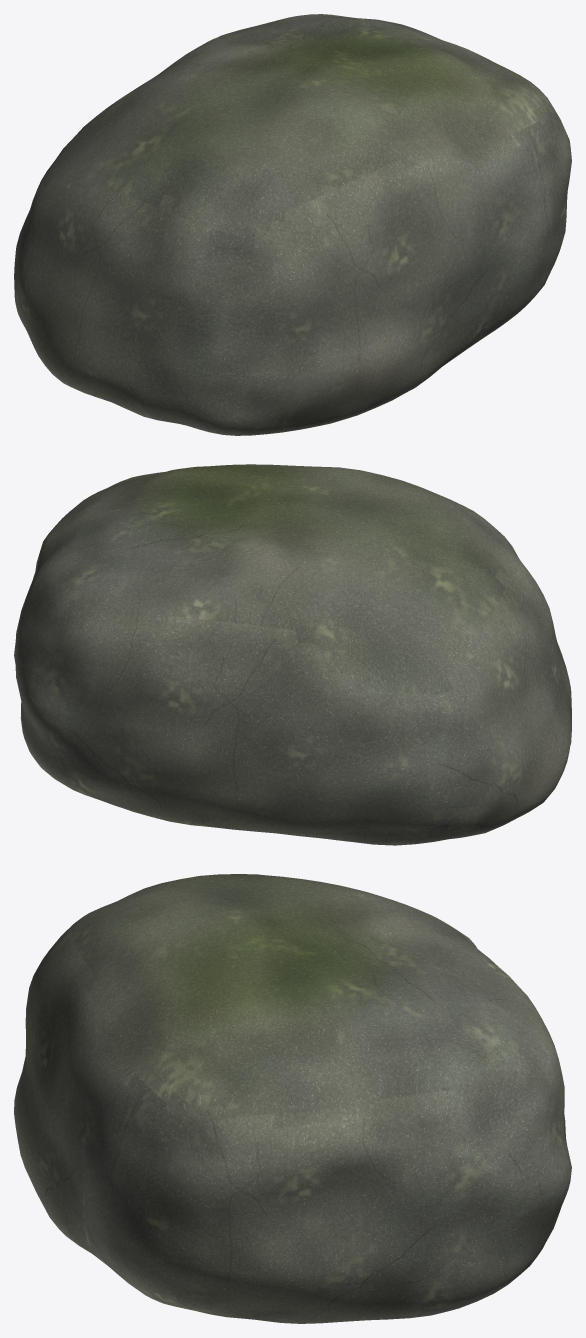
File: bed_rock_a.gltf
3 renders of one model, top to bottom at view 1: azimuth 30°, elevation 25°; view 2: azimuth 150°, elevation 25°; view 3: azimuth 270°, elevation 25°, orthographic. The views are drawn at different scales.
Parts seen in each view (by area): view 1: bed_rock_a_LOD0; view 2: bed_rock_a_LOD0; view 3: bed_rock_a_LOD0.
Boxes of the visible parts, box(x1,y1,x2,y2) form: bed_rock_a_LOD0: box(14, 14, 571, 435); bed_rock_a_LOD0: box(14, 464, 571, 845); bed_rock_a_LOD0: box(14, 874, 571, 1323).
Size of what is drawn, in the model's own units: 0.4801 by 0.2546 by 0.4007.
1 material, 1 textured.
